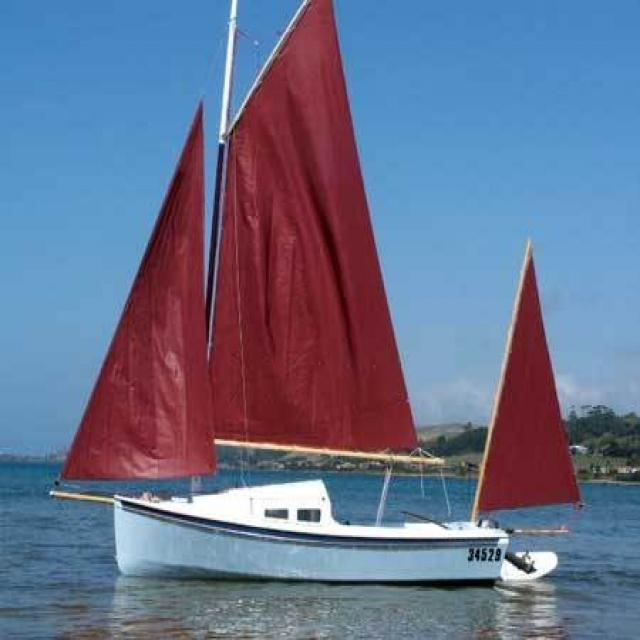Ship: (57, 6, 588, 583)
